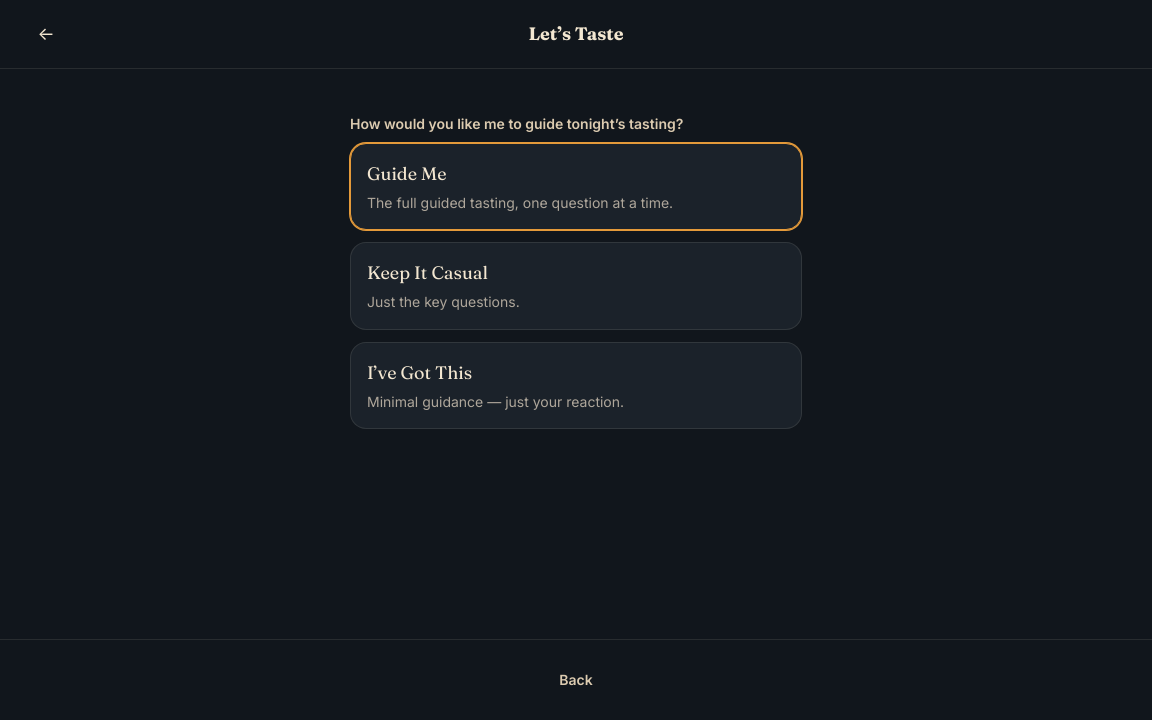
Test: BlindTastingPage › suggests distilleries and types from the taster’s own collection on the Extra Challenge guess fields
Check: the text "How would you like me to guide tonight’s tasting?" is shown, box [350,115,683,132]
Step 1. Click the button "Guide Me The full guided tasting, one question at a time." → click(407, 173), box [350,143,802,230]
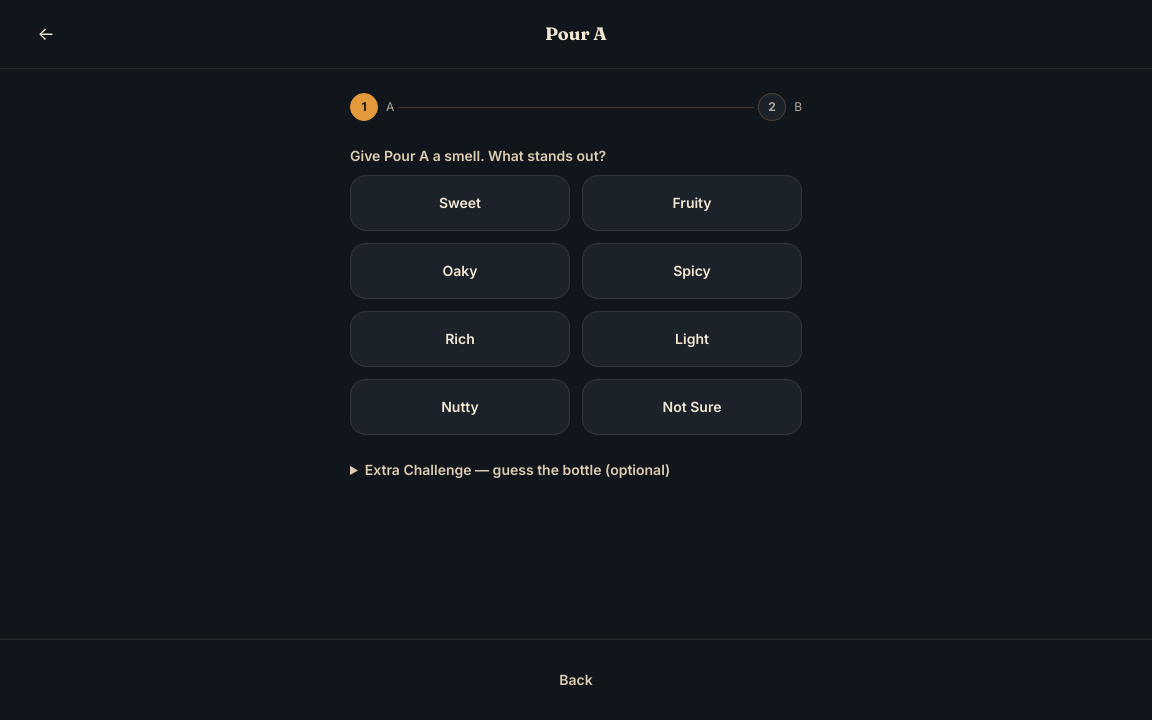
Check: the heading "Extra Challenge — guess the bottle (optional)" is shown, box [365,461,670,478]
